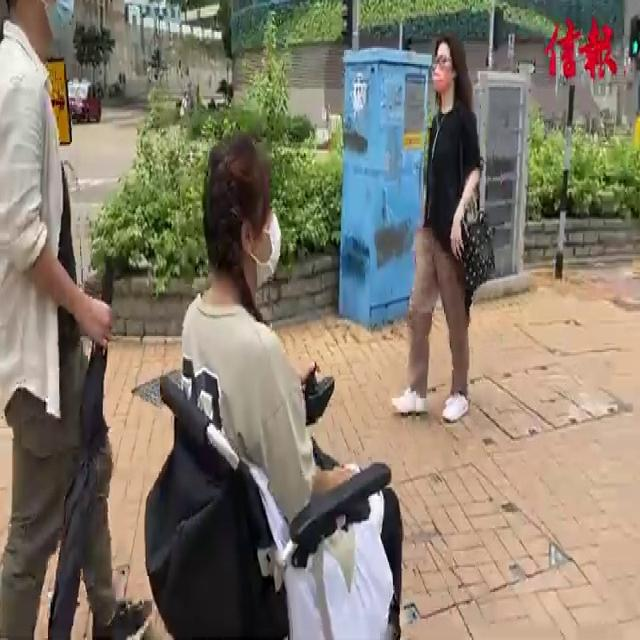wheelchairs: (125, 321, 418, 640)
